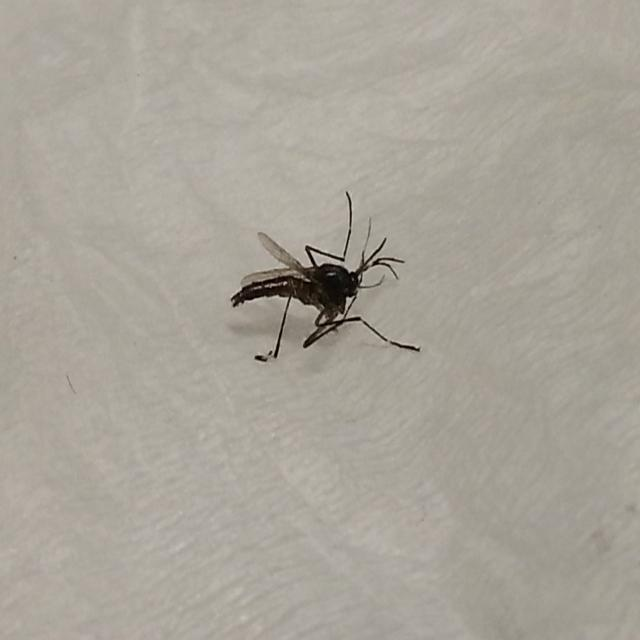albopictus: (231, 178, 427, 375)
